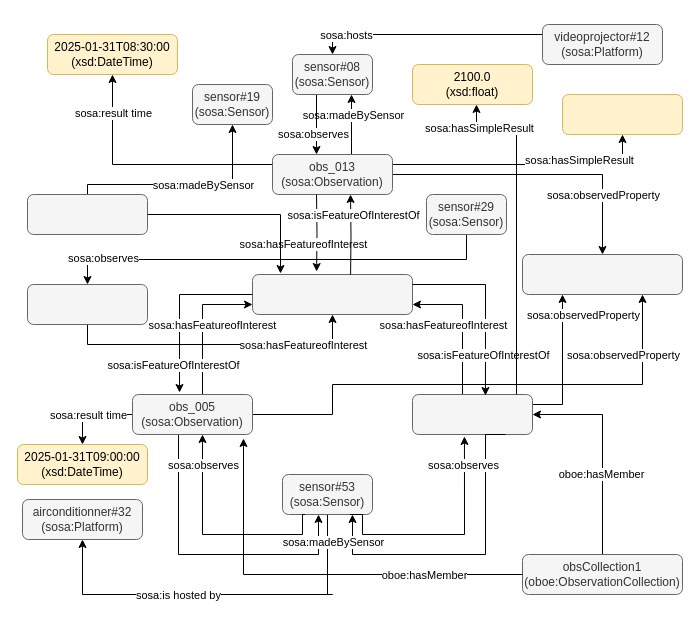
Some shapes in this 700 by 620 pixel diagram are drawn without their labels. Each missing label, with the centre of its shape:
"310.0 (xsd:float)" belongs at point 622,114.
"obs_010 (sosa:Observation)" belongs at point 472,414.
"obs_017 (sosa:Observation)" belongs at point 87,214.
"obs_025 (sosa:Observation)" belongs at point 87,304.
"powerConsumption (sosa:ObservedProperty)" belongs at point 602,274.
"room016 (sosa:FeatureOfInterest)" belongs at point 332,294.
